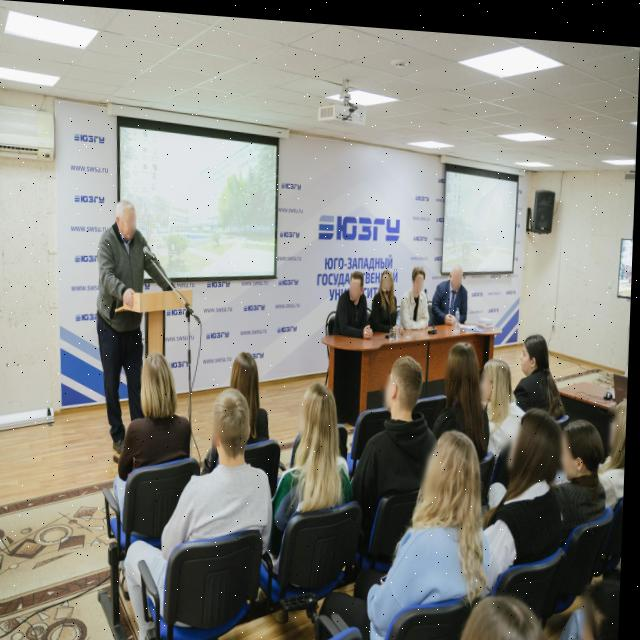Person: (376, 419, 495, 633), (478, 392, 572, 592), (181, 384, 276, 562), (88, 167, 160, 399), (106, 341, 195, 522), (371, 341, 440, 497), (295, 367, 356, 522), (457, 572, 561, 640), (558, 400, 611, 526), (481, 345, 535, 450), (444, 326, 486, 449), (516, 304, 568, 400), (232, 343, 282, 442), (567, 558, 624, 640), (373, 256, 406, 354), (335, 258, 373, 343), (399, 254, 442, 328), (607, 381, 630, 508), (450, 245, 475, 307)
